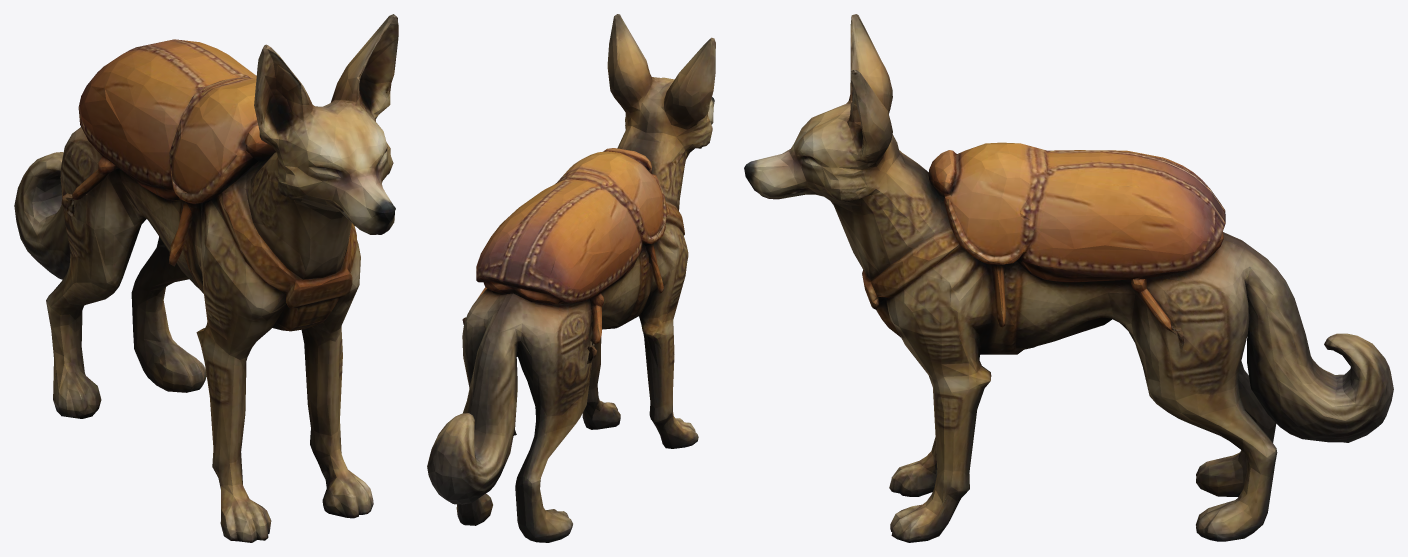
File: sandstitchJackal.glb
The picture shows the model from 3 angles, left to right: view 1: azimuth 30°, elevation 25°; view 2: azimuth 150°, elevation 25°; view 3: azimuth 270°, elevation 25°; orthographic projection. The views are drawn at different scales.
Parts seen in each view (by area): view 1: world; view 2: world; view 3: world.
Boxes of the visible parts, left/top/right/bottom form: world: left=14, top=14, right=398, bottom=542; world: left=427, top=14, right=715, bottom=542; world: left=744, top=14, right=1393, bottom=542.
Bounding box in the file's own units: 0.2867 × 0.7995 × 0.998.
1 material, 1 textured.
